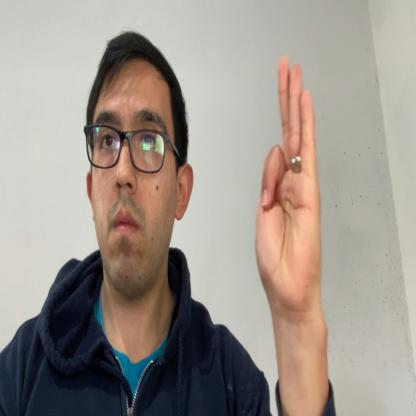F: (255, 57, 320, 310)
